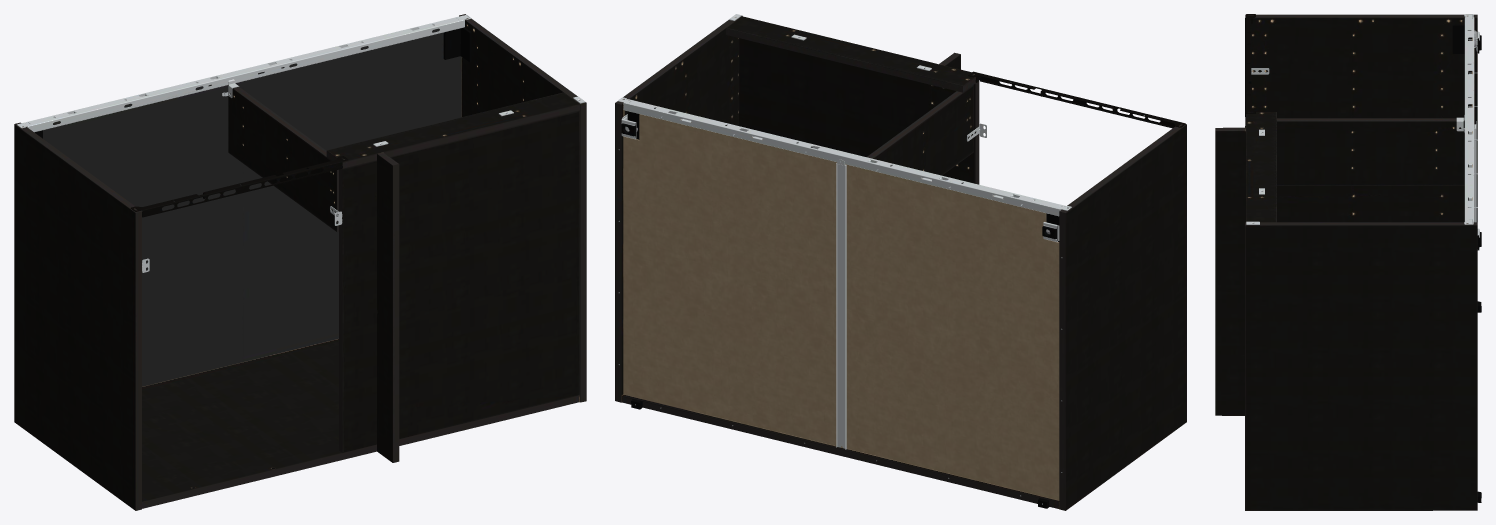
Rendered from metod_narozna_szafka_stojaca_30591685.glb.
The picture shows the model from 3 angles, left to right: view 1: azimuth 30°, elevation 25°; view 2: azimuth 150°, elevation 25°; view 3: azimuth 270°, elevation 25°; orthographic projection. The views are drawn at different scales.
Visible parts, largest first — view 1: metod_narozna_szafka_stojaca_30591685; view 2: metod_narozna_szafka_stojaca_30591685; view 3: metod_narozna_szafka_stojaca_30591685.
Boxes of the visible parts, <box> form: metod_narozna_szafka_stojaca_30591685: <box>14,14,586,510</box>; metod_narozna_szafka_stojaca_30591685: <box>615,14,1186,510</box>; metod_narozna_szafka_stojaca_30591685: <box>1215,14,1481,510</box>.
Bounding box in the file's own units: 1.27 × 0.8034 × 0.675.
Materials: 1 (1 with a texture image).
